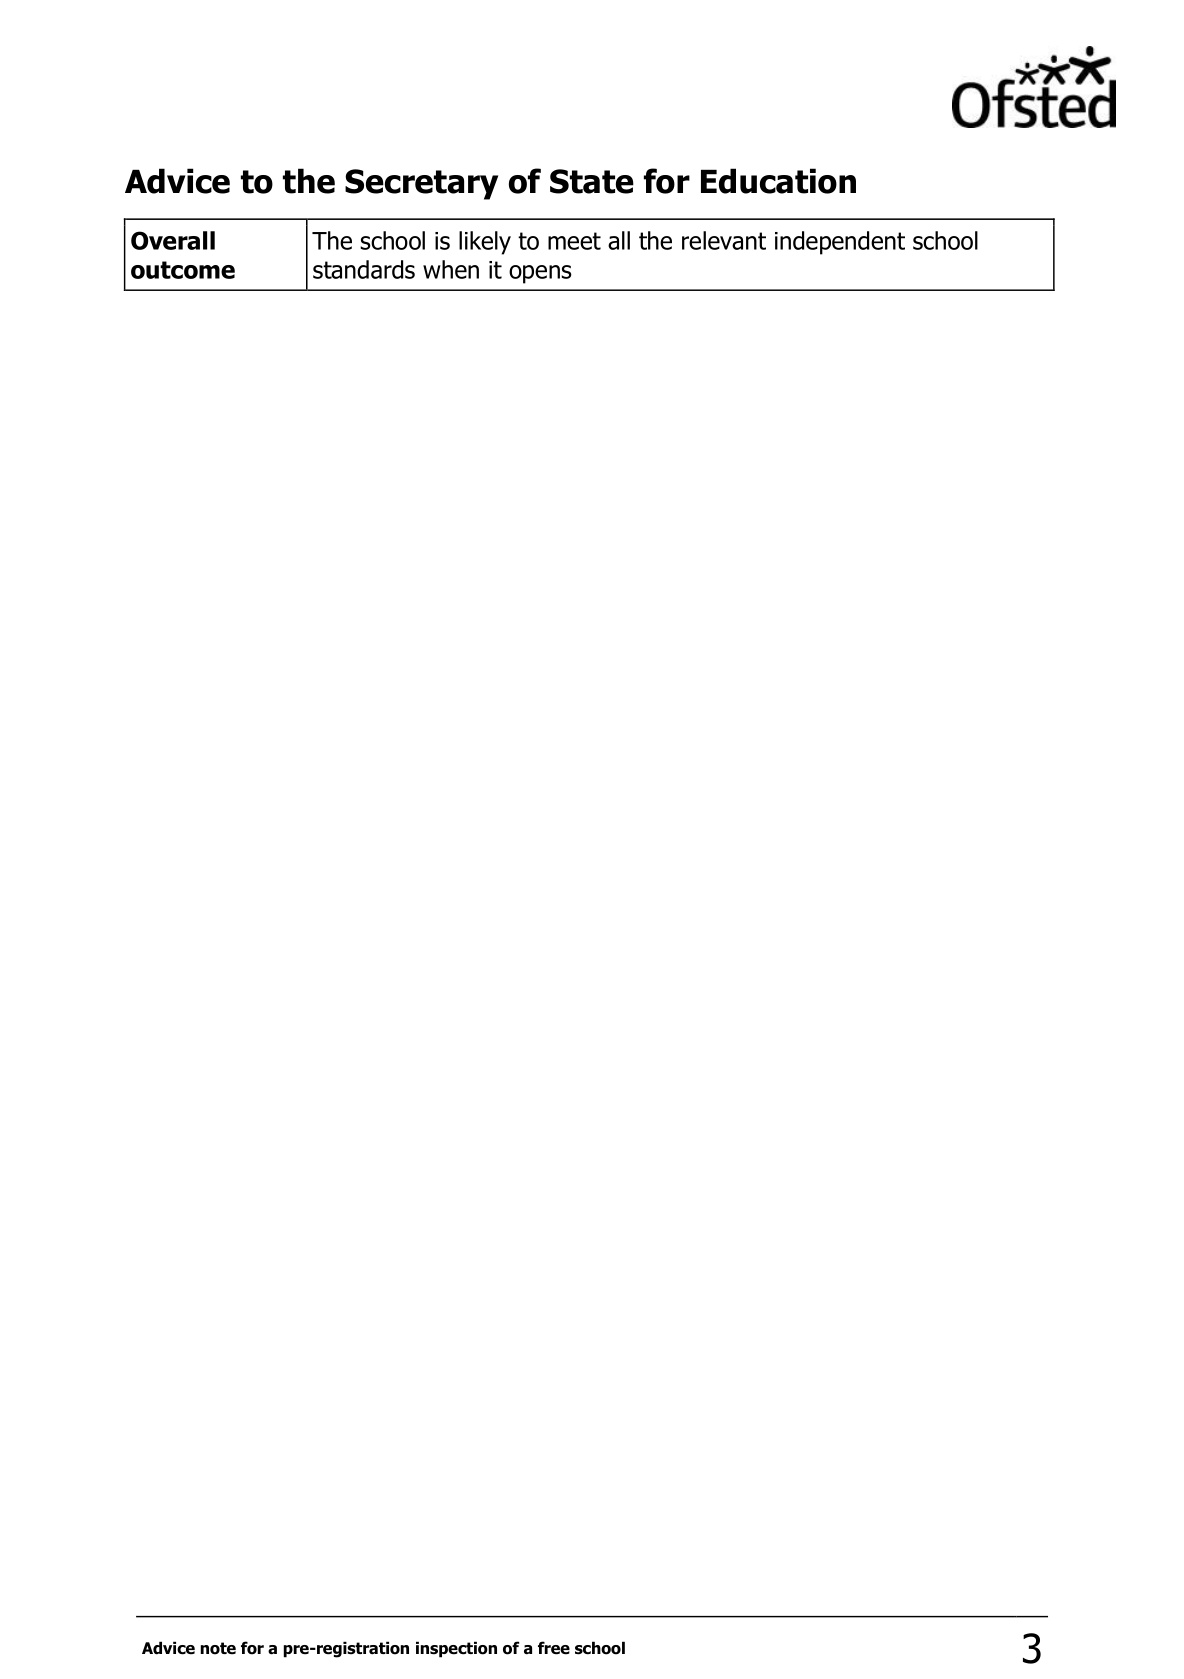full_lined: (122, 216, 1055, 292)
